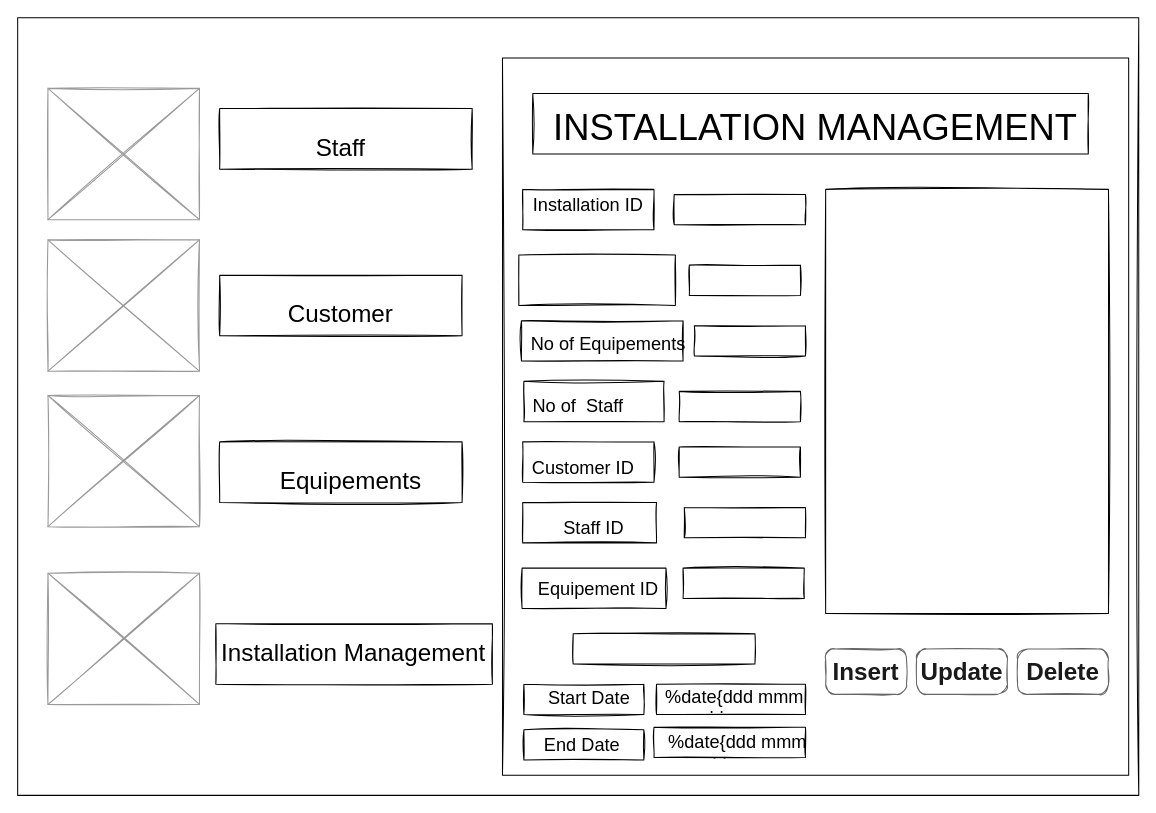
Image size: 1156x813. Some labels were removed from this diagram. The shapes that lost their labels are listed below. From the top down, each one's centre as x and y in pixels, then its label:
(x=596, y=280): Installation Type
(x=663, y=648): Project Date
